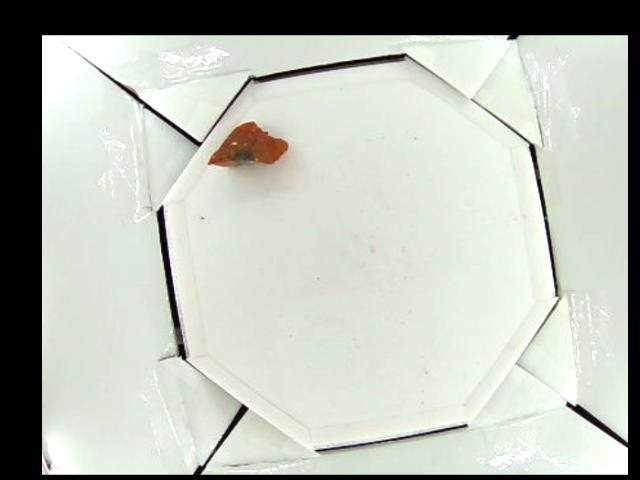Brisk: (205, 121, 290, 169)
